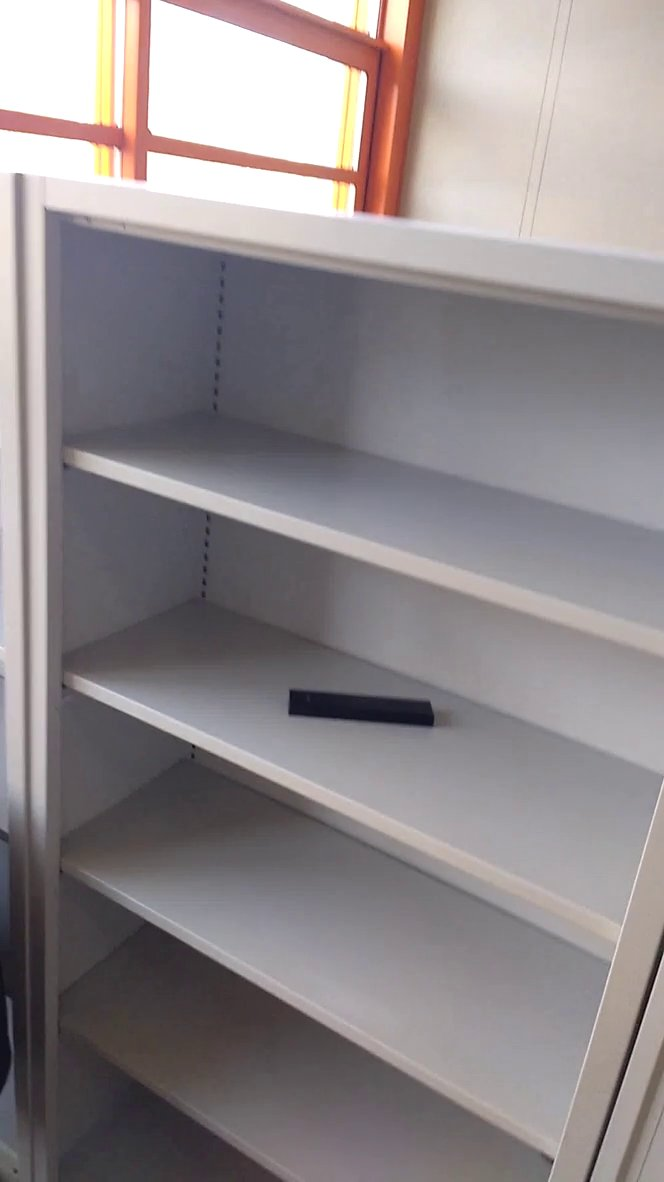remote: (284, 679, 446, 737)
